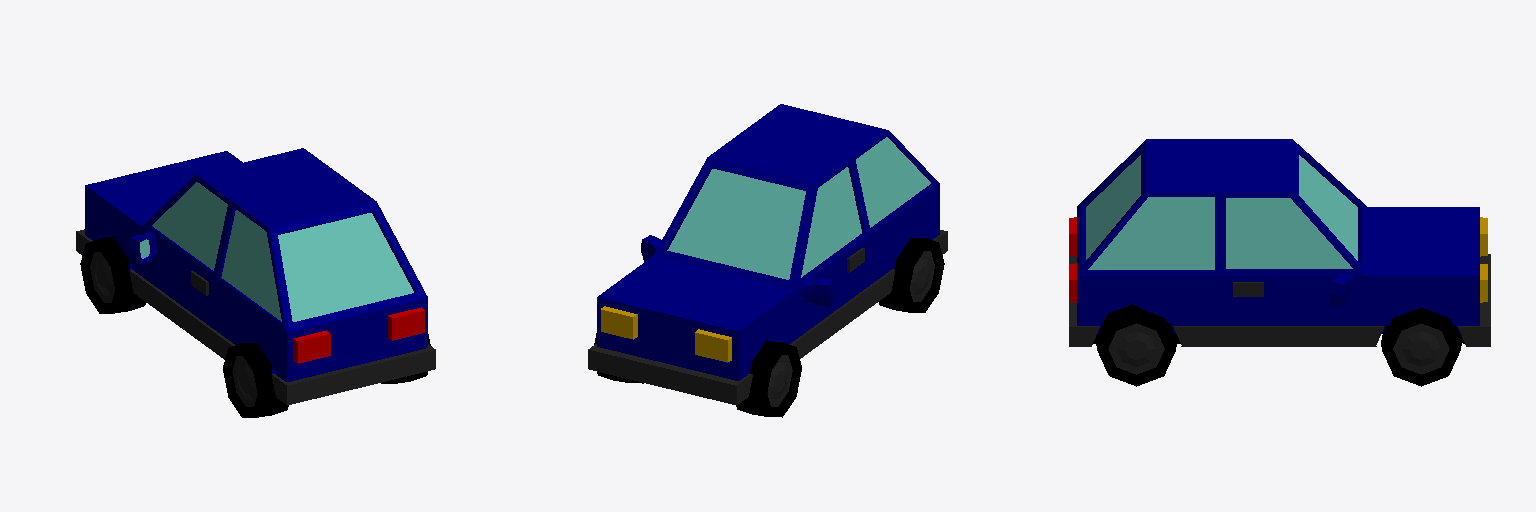
The picture shows the model from 3 angles: view 1: azimuth 30°, elevation 25°; view 2: azimuth 150°, elevation 25°; view 3: azimuth 270°, elevation 25°; orthographic projection.
Visible parts, largest first — view 1: Cube, Cylinder; view 2: Cube, Cylinder; view 3: Cube, Cylinder.
Part boxes in pixels (bbox=[...]): Cube: bbox=[76, 148, 435, 405]; Cylinder: bbox=[80, 236, 430, 417]; Cube: bbox=[588, 104, 947, 405]; Cylinder: bbox=[594, 238, 944, 417]; Cube: bbox=[1069, 139, 1490, 346]; Cylinder: bbox=[1096, 304, 1461, 386].
Size of the model in its own units: 2.76 by 2.5 by 5.3.
Materials: 6 (2 with a texture image).